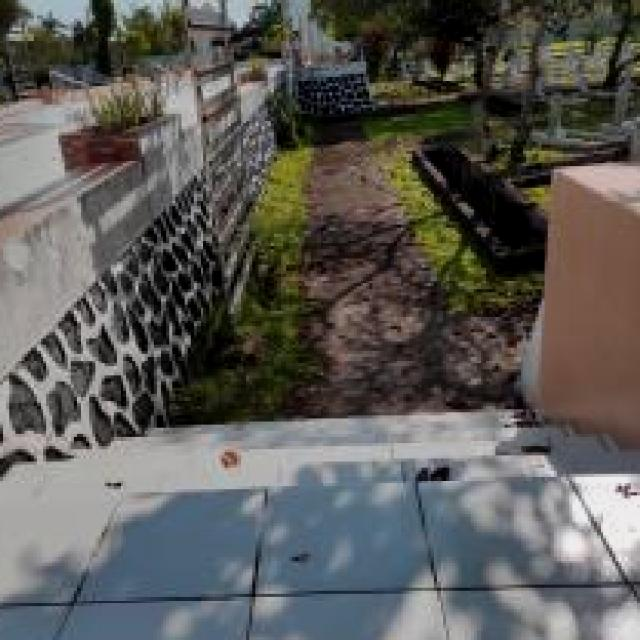downstair: (81, 392, 640, 527)
